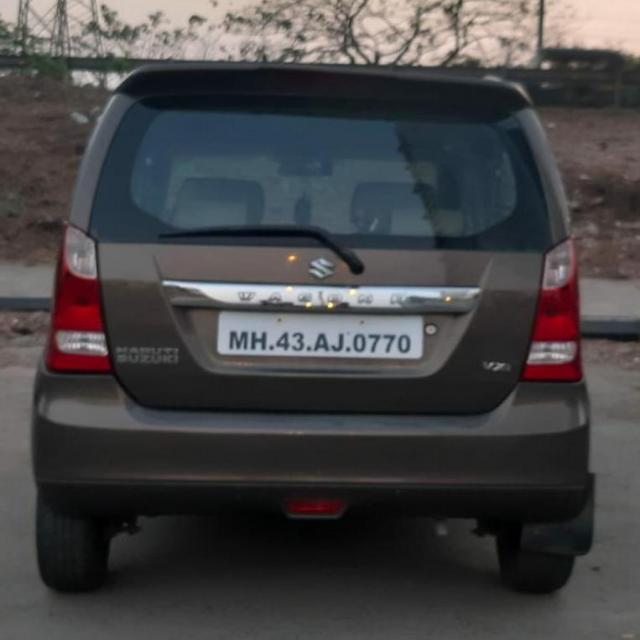Number-Plate: (218, 317, 422, 359)
